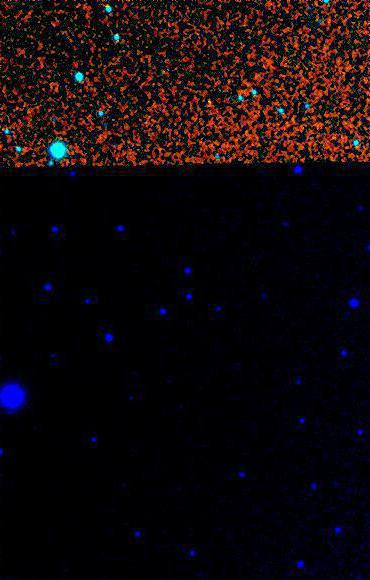star: (192, 88, 222, 118)
